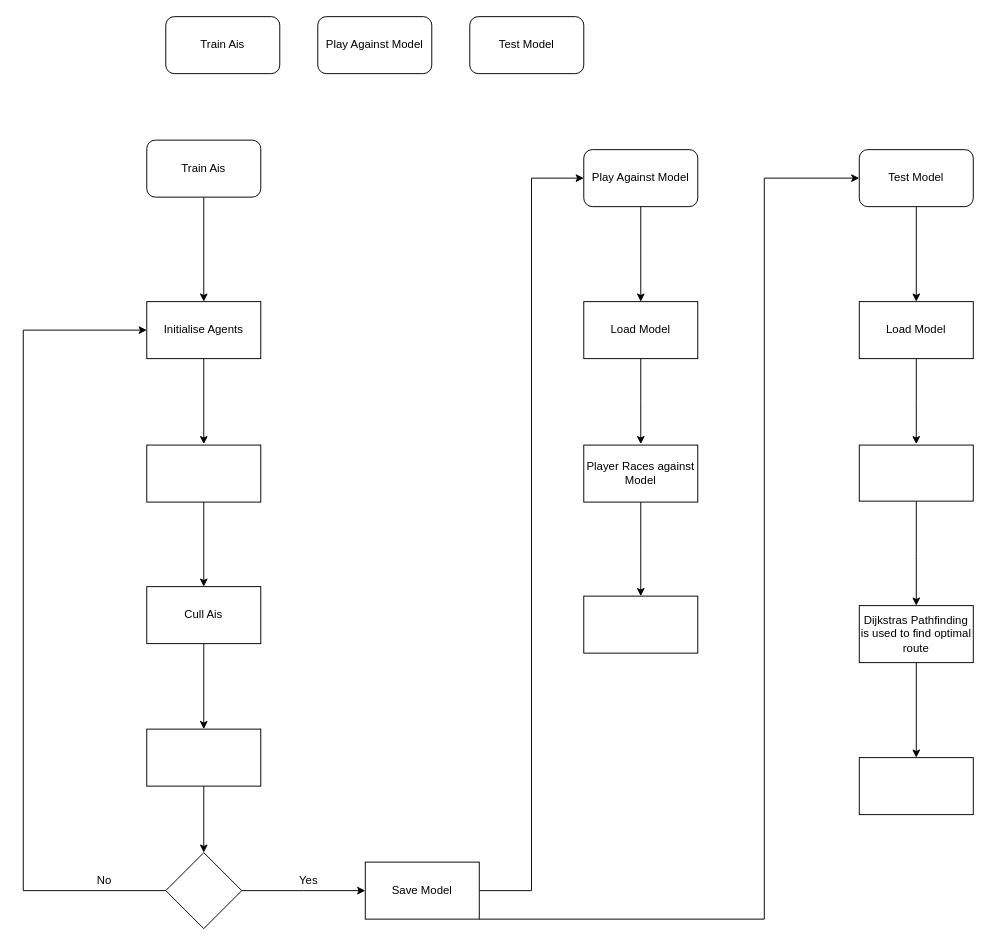
Image size: 990x945. Some labels were removed from this diagram. The shapes that lost their labels are listed below. From the top down, each one's centre as x and y in pixels, then its label:
At point (203, 473): "Agents Performance Assessed".
At point (915, 472): "Player Chooses Two Points".
At point (640, 624): "Display Results".
At point (203, 757): "Populate new generation".
At point (915, 786): "Cars Drive between points".
At point (203, 890): "Is Finished Training".
